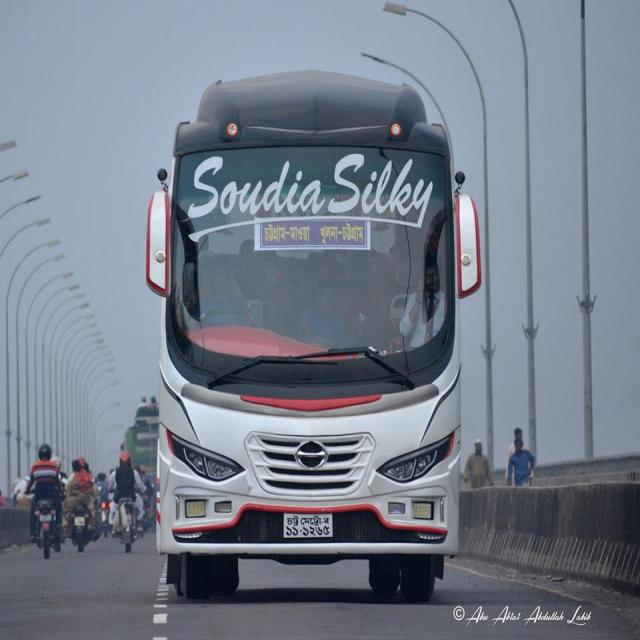bus: (145, 66, 482, 602)
